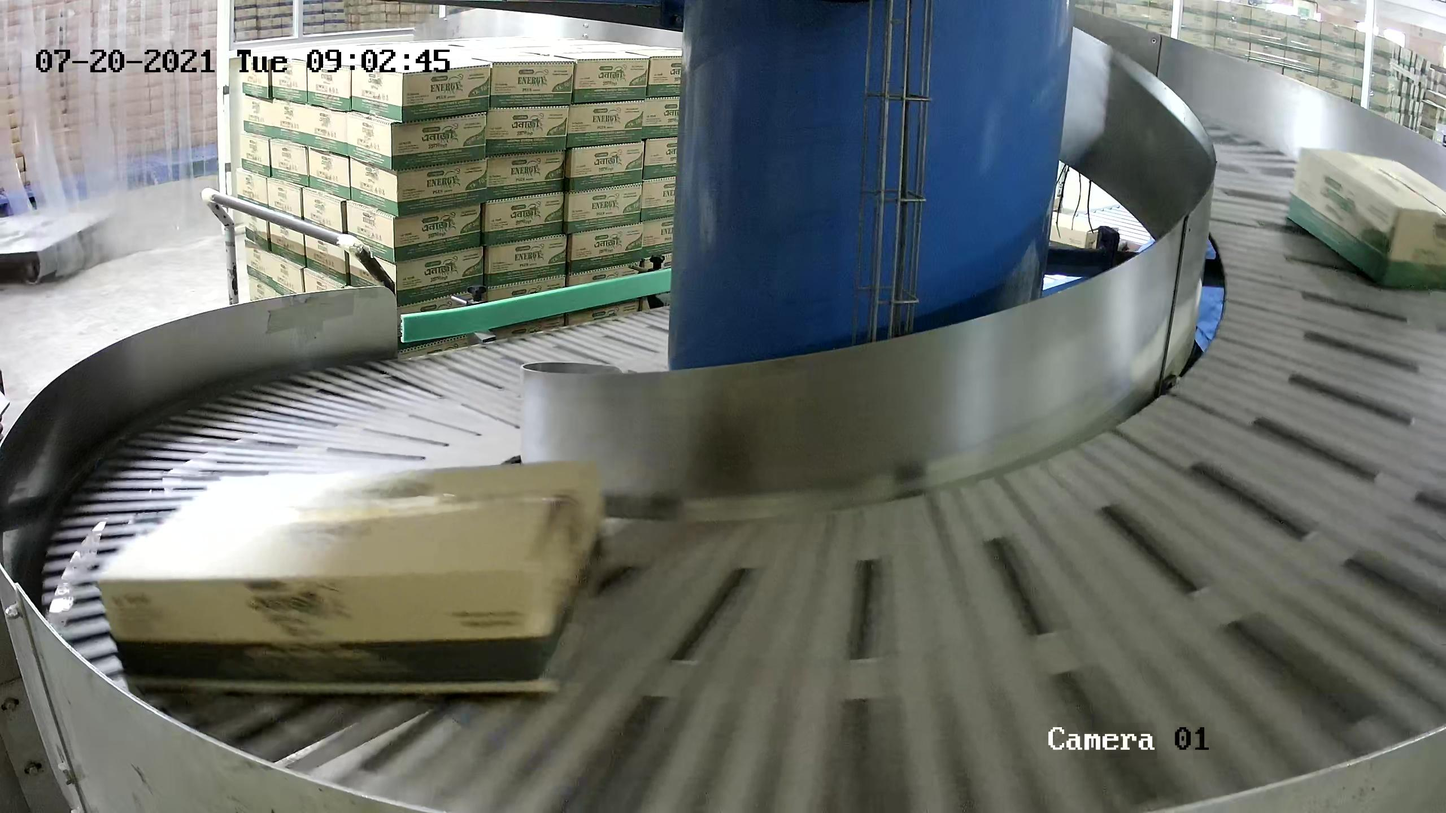Box: (94, 455, 610, 700), (1285, 145, 1446, 292)
